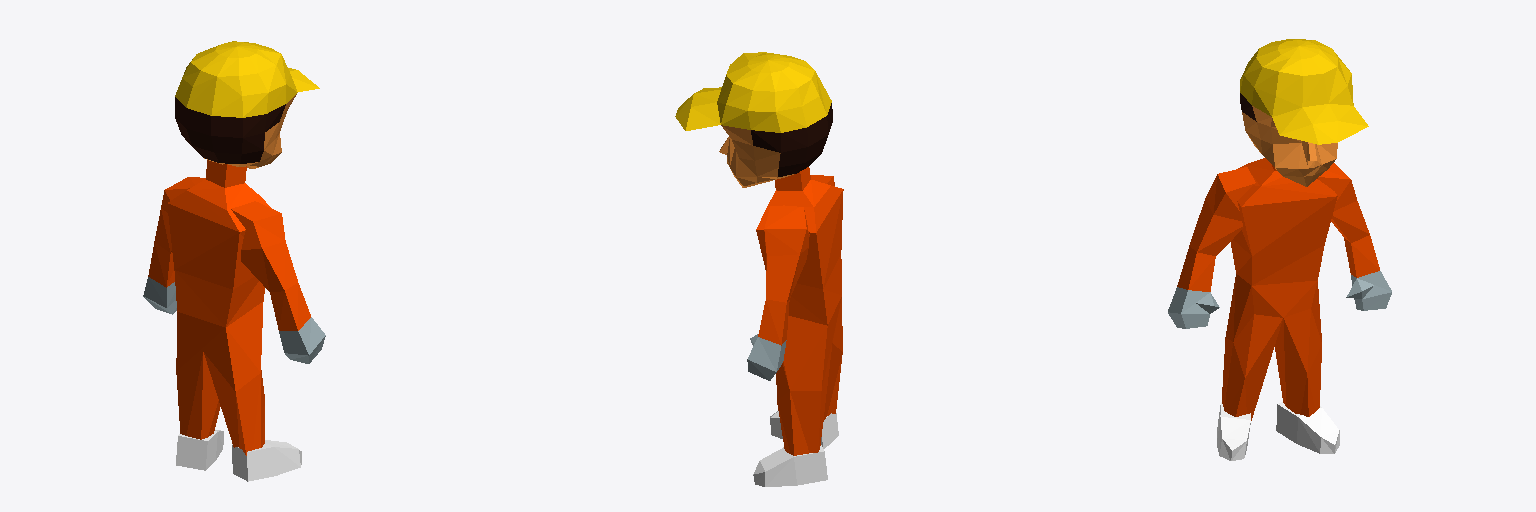
3 views of the same model, side by side, from view 1: azimuth 30°, elevation 25°; view 2: azimuth 150°, elevation 25°; view 3: azimuth 270°, elevation 25° (orthographic).
Parts seen in each view (by area): view 1: group[number redacted], group[number redacted], group[number redacted], group[number redacted], group[number redacted], group[number redacted]; view 2: group[number redacted], group[number redacted], group[number redacted], group[number redacted], group[number redacted]; view 3: group[number redacted], group[number redacted], group[number redacted], group[number redacted], group[number redacted], group[number redacted].
Boxes of the visible parts, x1=… form: group[number redacted]: x1=167, y1=160, x2=271, y2=455; group[number redacted]: x1=175, y1=41, x2=319, y2=168; group[number redacted]: x1=231, y1=201, x2=325, y2=363; group[number redacted]: x1=143, y1=177, x2=205, y2=314; group[number redacted]: x1=232, y1=440, x2=301, y2=481; group[number redacted]: x1=176, y1=430, x2=223, y2=470; group[number redacted]: x1=756, y1=167, x2=843, y2=455; group[number redacted]: x1=675, y1=52, x2=832, y2=187; group[number redacted]: x1=747, y1=205, x2=809, y2=380; group[number redacted]: x1=753, y1=445, x2=827, y2=486; group[number redacted]: x1=770, y1=411, x2=838, y2=448; group[number redacted]: x1=1222, y1=158, x2=1337, y2=420; group[number redacted]: x1=1240, y1=39, x2=1368, y2=186; group[number redacted]: x1=1168, y1=167, x2=1255, y2=328; group[number redacted]: x1=1317, y1=163, x2=1391, y2=310; group[number redacted]: x1=1276, y1=402, x2=1339, y2=453; group[number redacted]: x1=1217, y1=402, x2=1250, y2=460.
Size of the model in its own units: 0.2561 by 0.7143 by 0.3555.